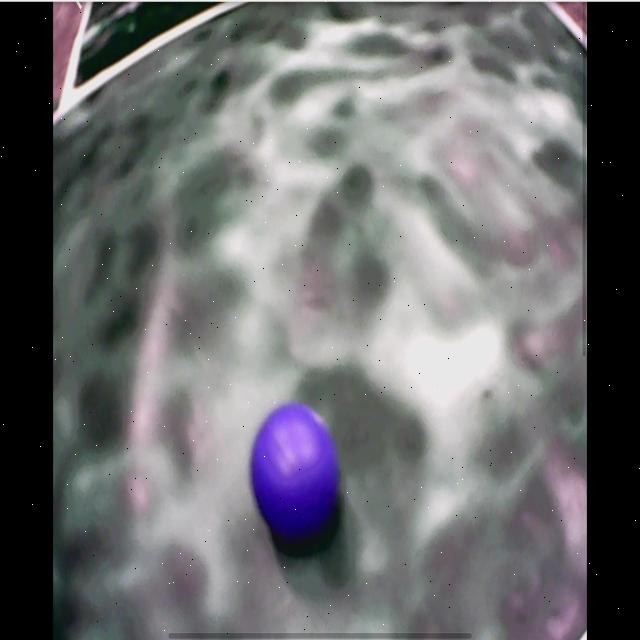ball: (253, 406, 341, 543)
